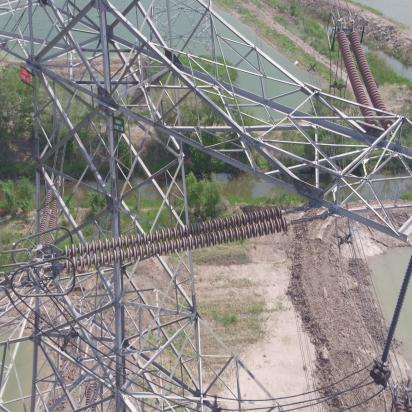insulator: (60, 204, 303, 276), (334, 28, 396, 132)
